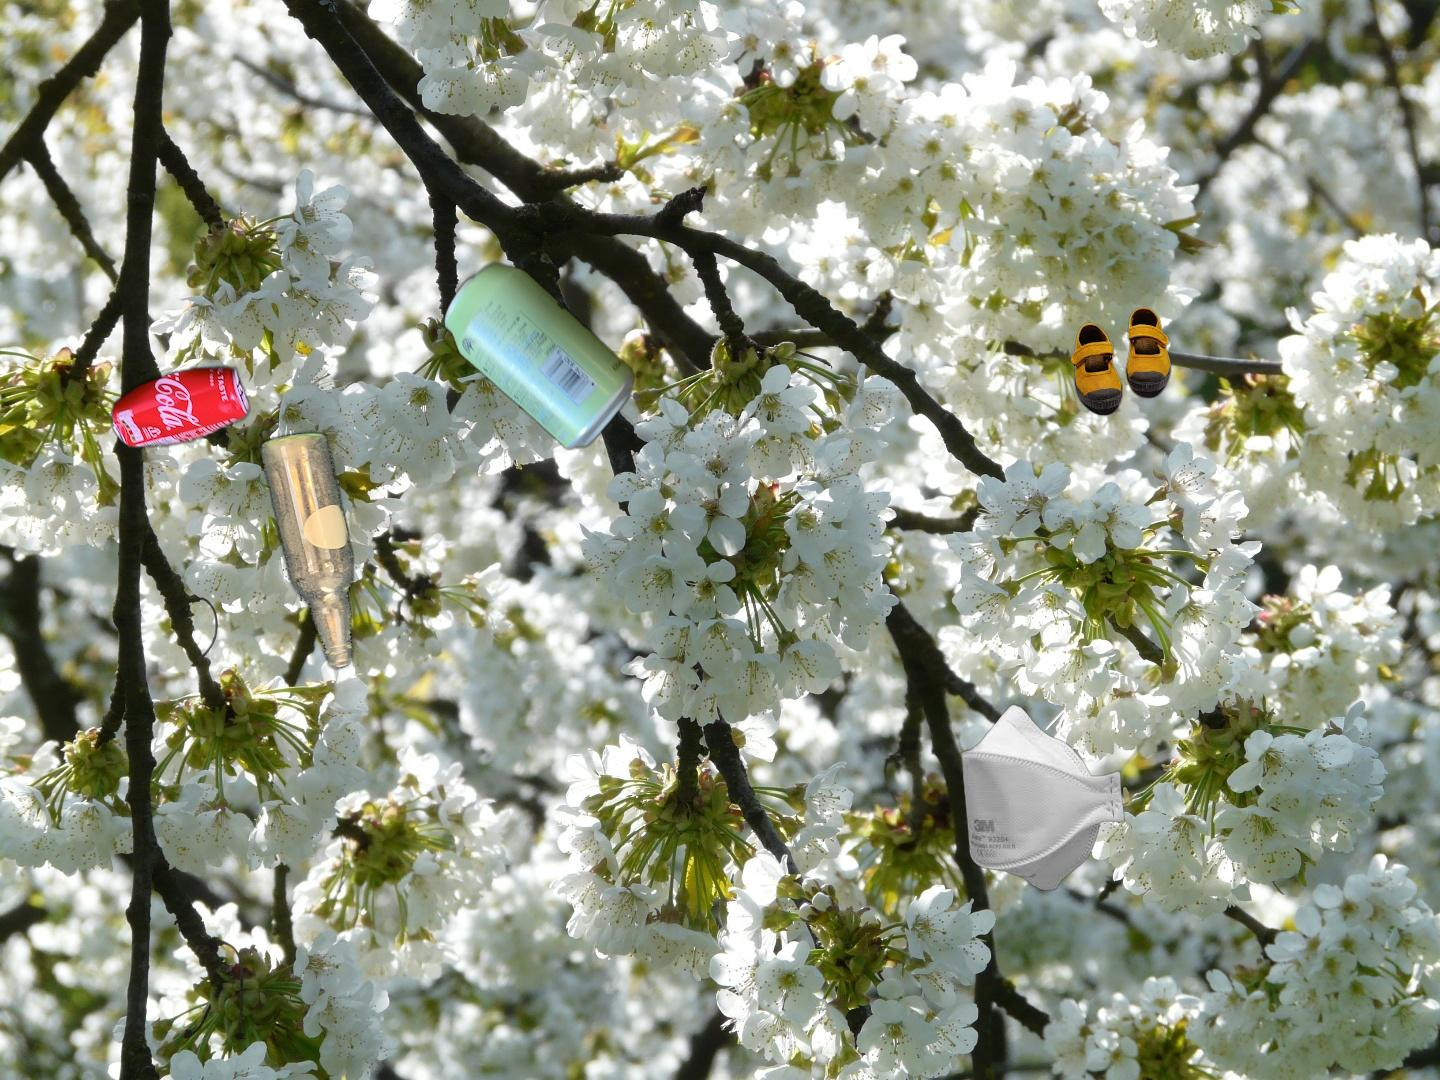glass: (257, 241, 358, 675)
metal-cans: (439, 258, 637, 456), (105, 361, 254, 454)
shoes: (1068, 304, 1174, 417)
trash: (962, 674, 1193, 891)
